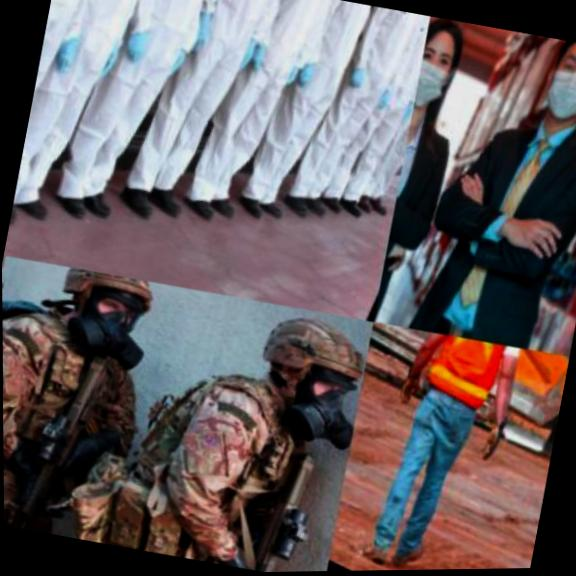safety_vest: (96, 345, 326, 575), (112, 0, 308, 213), (43, 0, 234, 211), (2, 297, 156, 519), (13, 0, 173, 213), (187, 0, 346, 212), (236, 0, 385, 214), (289, 0, 430, 212), (8, 0, 124, 232), (338, 5, 431, 191), (368, 11, 431, 194), (415, 330, 520, 420)
